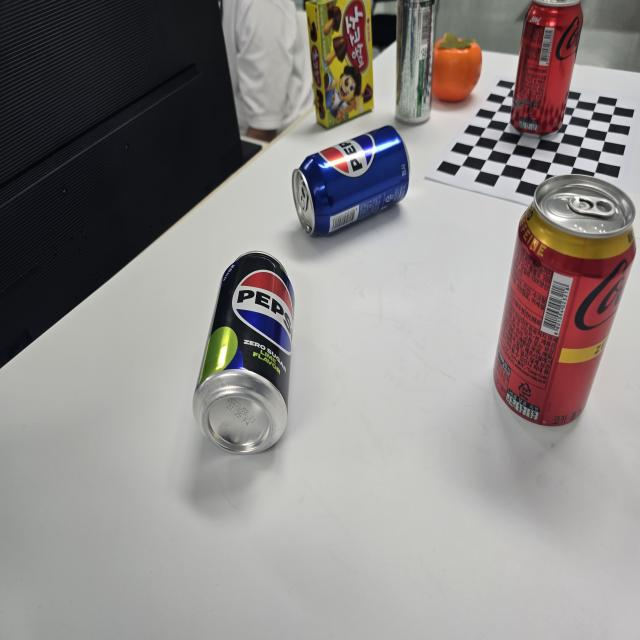can_coke_decaf: (493, 172, 636, 426)
can_pepsi: (292, 124, 410, 239)
can_pepsi_zero: (192, 252, 295, 455)
